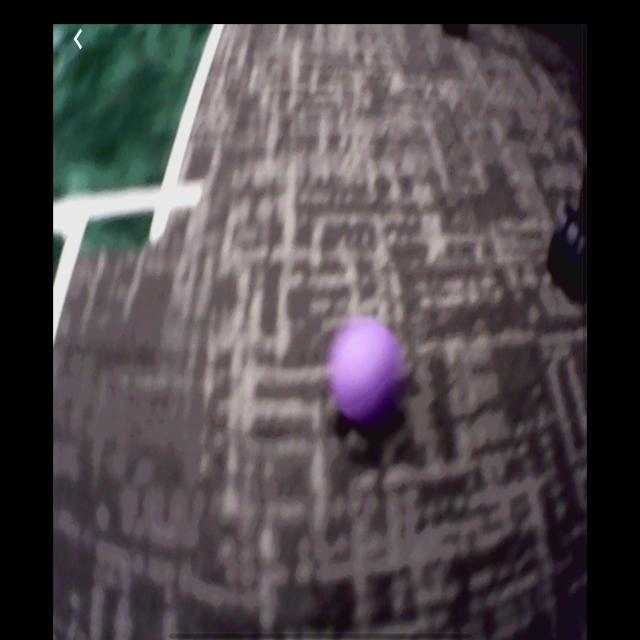ball: (325, 315, 409, 435)
